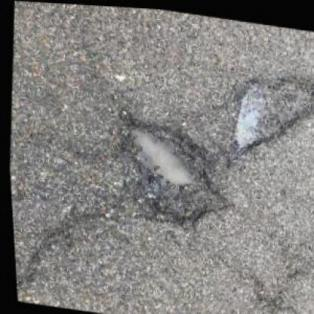Hueco: (106, 109, 241, 233), (223, 60, 313, 162)
